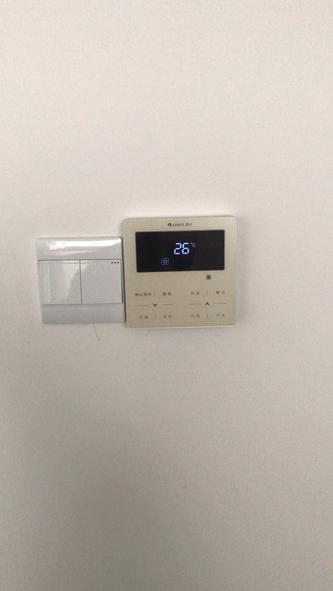switch: (38, 258, 82, 309), (80, 257, 122, 305)
